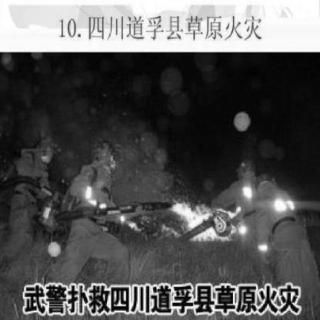Fire: (172, 193, 240, 245)
other: (11, 135, 145, 281), (223, 164, 313, 304)
